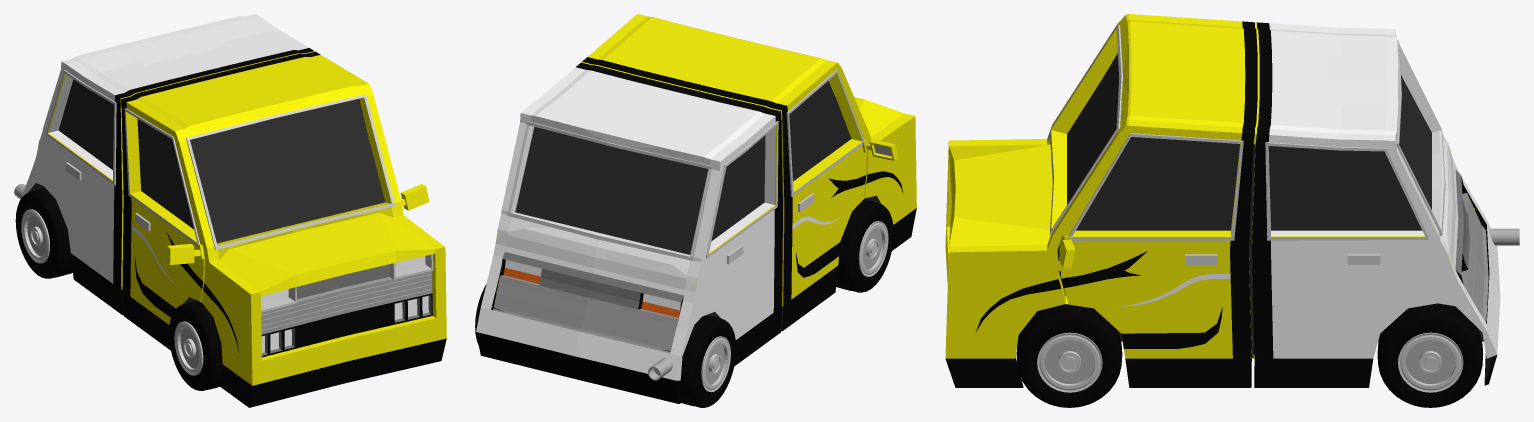
File: CR-CAR-21B.fbx
3 renders of one model, left to right at view 1: azimuth 30°, elevation 25°; view 2: azimuth 150°, elevation 25°; view 3: azimuth 270°, elevation 25°, orthographic. The views are drawn at different scales.
Parts seen in each view (by area): view 1: BODY, WHEEL.004, WHEEL.001; view 2: BODY, WHEEL.004, WHEEL.001; view 3: BODY, WHEEL.002, WHEEL.003, SHACMAN.
Boxes of the visible parts, x1,y1,x2,y2 form: BODY: (22, 14, 446, 407); WHEEL.004: (15, 188, 72, 278); WHEEL.001: (169, 300, 222, 390); BODY: (476, 14, 916, 403); WHEEL.004: (678, 315, 736, 407); WHEEL.001: (836, 199, 893, 292); BODY: (945, 14, 1500, 387); WHEEL.002: (1377, 303, 1482, 407); WHEEL.003: (1016, 304, 1122, 407); SHACMAN: (1490, 228, 1519, 245).
Bounding box in the file's own units: 131 × 115 × 213.
